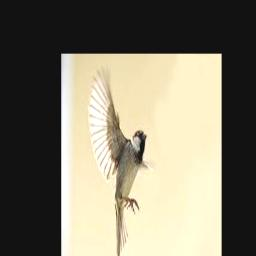Sparrow: (89, 64, 153, 256)
